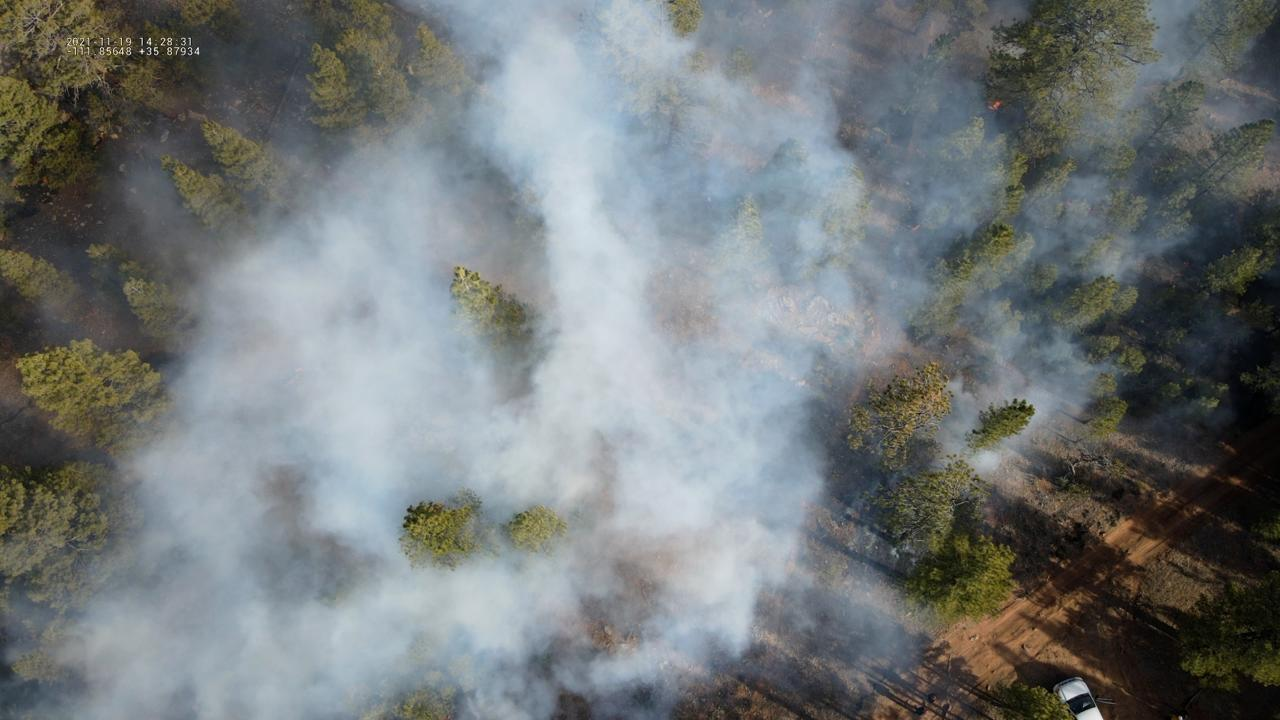fire: (985, 100, 1001, 112)
smoke: (0, 0, 1280, 720)
